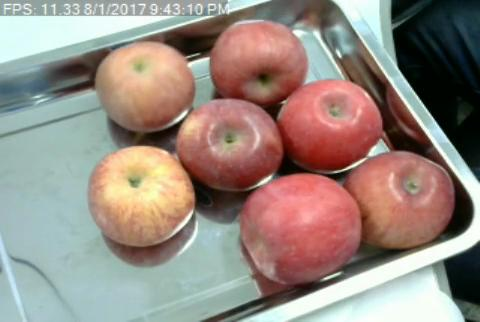apple: (241, 171, 362, 284), (88, 146, 195, 246), (354, 151, 455, 250), (276, 79, 383, 172), (179, 99, 283, 190), (94, 40, 195, 131), (212, 20, 309, 98)
